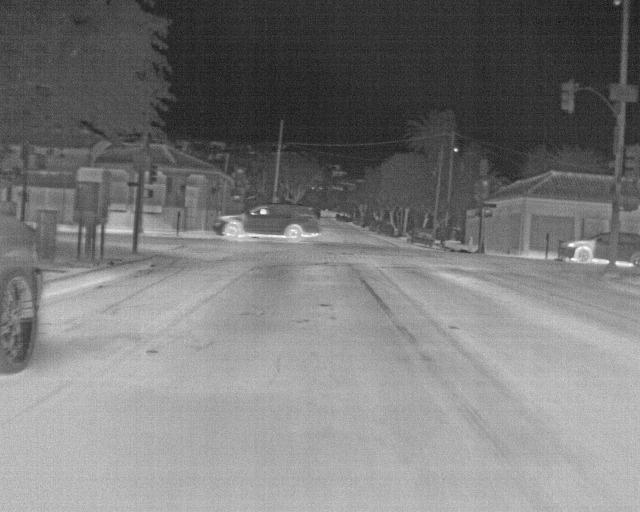car: (0, 210, 48, 376), (212, 203, 321, 241), (559, 230, 607, 262), (621, 229, 638, 267), (406, 225, 436, 246)
